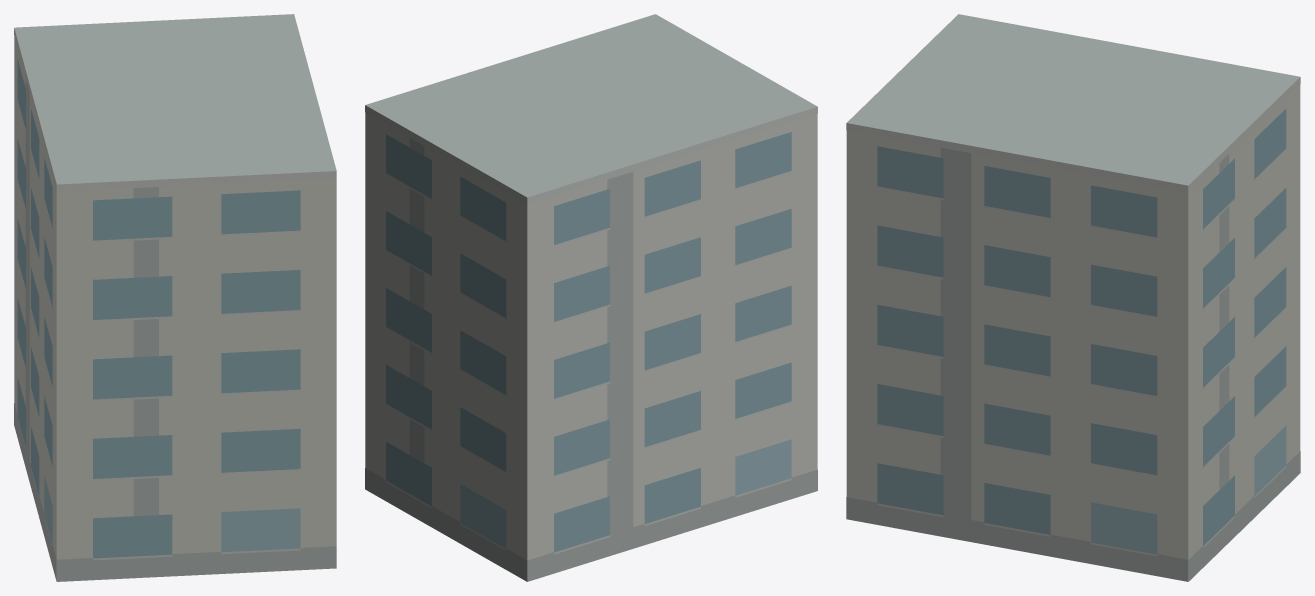
The model's file is survey-upis-32529994.glb.
3 views of the same model, side by side, from view 1: azimuth 30°, elevation 25°; view 2: azimuth 150°, elevation 25°; view 3: azimuth 270°, elevation 25° (orthographic). The views are drawn at different scales.
Visible parts, largest first — view 1: survey-upis-32529994.tmp; view 2: survey-upis-32529994.tmp; view 3: survey-upis-32529994.tmp.
Boxes of the visible parts, x1,y1,x2,y2 form: survey-upis-32529994.tmp: (14, 14, 336, 581); survey-upis-32529994.tmp: (365, 14, 817, 581); survey-upis-32529994.tmp: (846, 14, 1300, 581).
Size of the model in its own units: 12.18 by 13.1 by 13.61.
